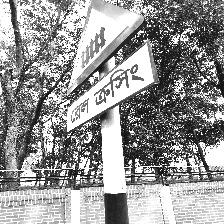Rail-crossing: (63, 1, 158, 137)
